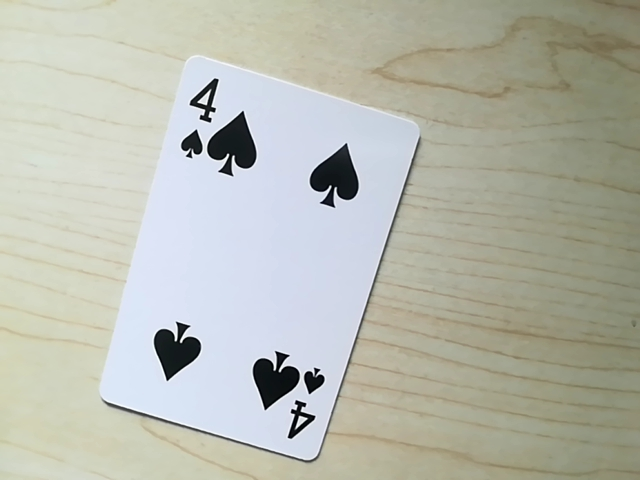ht 4: (169, 68, 234, 171), (280, 363, 327, 450)
